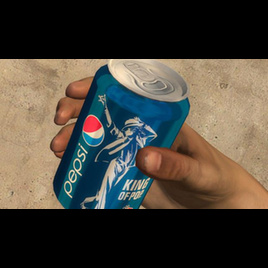can: (53, 59, 196, 210)
